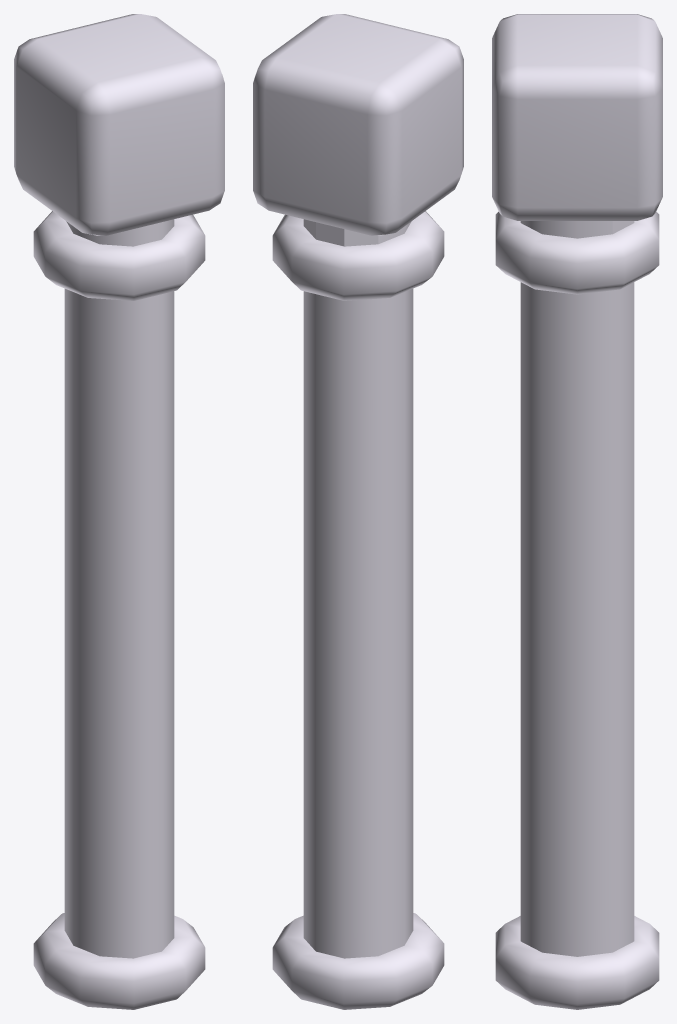
Rendered from Decor_Truden.fbx.
3 views of the same model, side by side, from view 1: azimuth 30°, elevation 25°; view 2: azimuth 150°, elevation 25°; view 3: azimuth 270°, elevation 25° (orthographic).
Visible parts, largest first — view 1: Decor_Truden; view 2: Decor_Truden; view 3: Decor_Truden.
Part boxes in pixels (x1,y1,x2,y2): Decor_Truden: (14, 14, 224, 1009); Decor_Truden: (253, 14, 463, 1009); Decor_Truden: (492, 14, 662, 1009).
Bounding box in the file's own units: 57.9 × 347 × 57.24.
